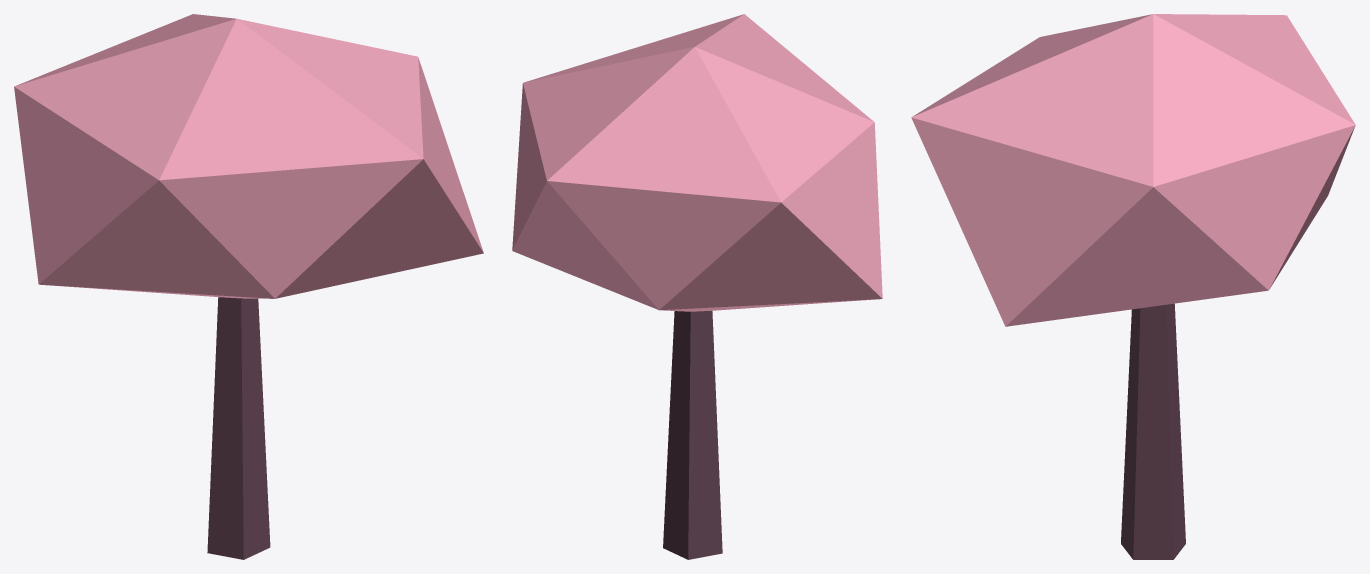
File: tree_blossom.glb
The picture shows the model from 3 angles, left to right: view 1: azimuth 30°, elevation 25°; view 2: azimuth 150°, elevation 25°; view 3: azimuth 270°, elevation 25°; orthographic projection. The views are drawn at different scales.
Parts seen in each view (by area): view 1: Crown, Trunk; view 2: Crown, Trunk; view 3: Crown, Trunk.
Boxes of the visible parts, <box> form: Crown: <box>14,14,483,298</box>; Trunk: <box>207,297,270,559</box>; Crown: <box>512,14,882,311</box>; Trunk: <box>663,311,722,559</box>; Crown: <box>911,14,1355,326</box>; Trunk: <box>1121,303,1185,559</box>.
Bounding box in the file's own units: 0.6476 × 0.8596 × 0.6482.
